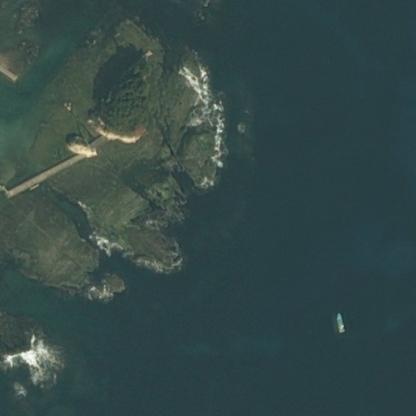ship: (330, 308, 349, 336)
